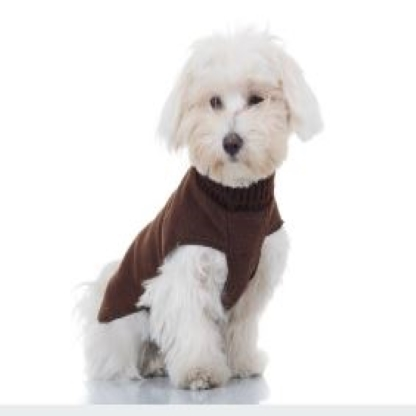maltese: (79, 24, 325, 395)
